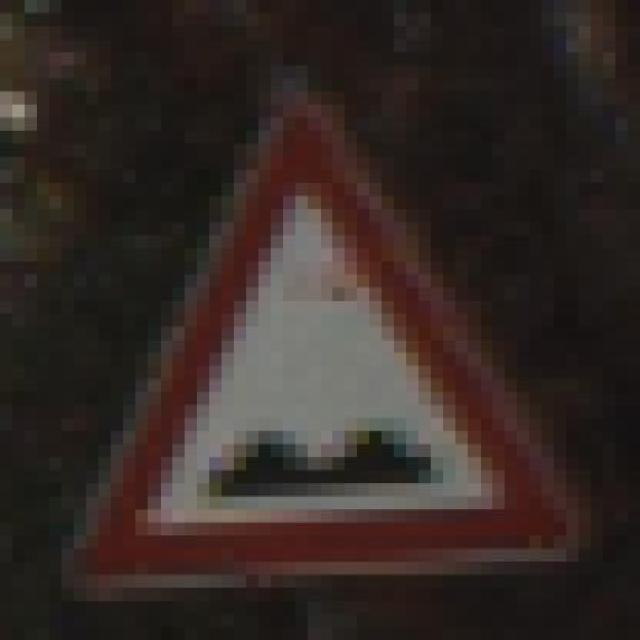Uneven Road: (62, 78, 603, 600)
